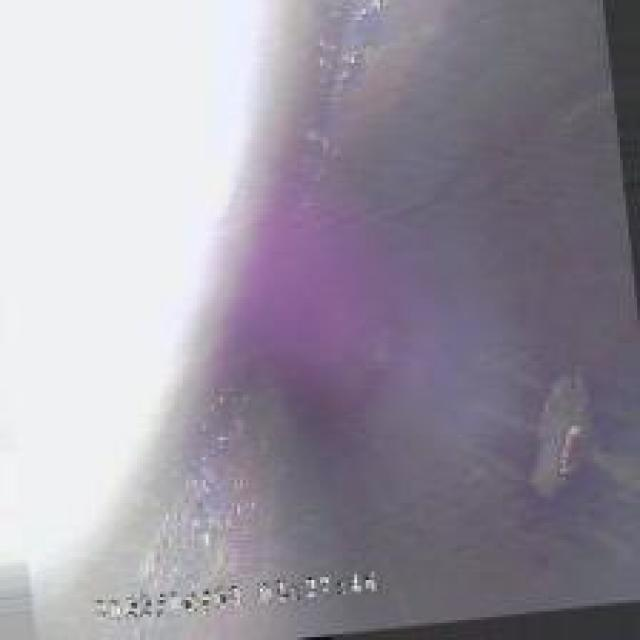ferrule: (520, 383, 594, 486)
